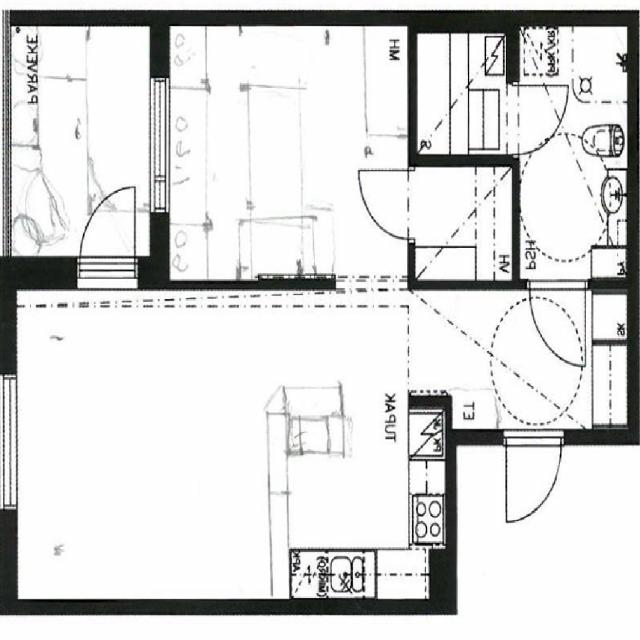door: (80, 179, 136, 289), (506, 429, 560, 521), (530, 280, 586, 366), (513, 85, 569, 154), (360, 170, 416, 238)
